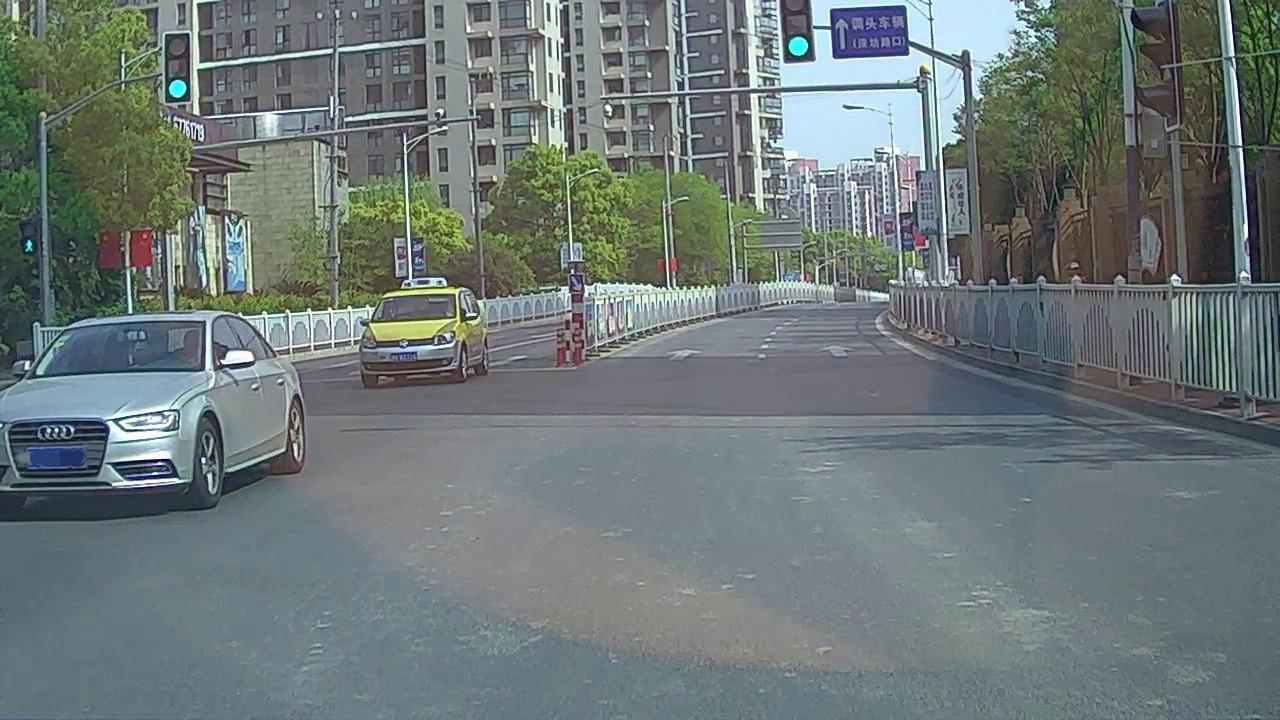traffic_light: (780, 1, 811, 61), (164, 33, 190, 104)
